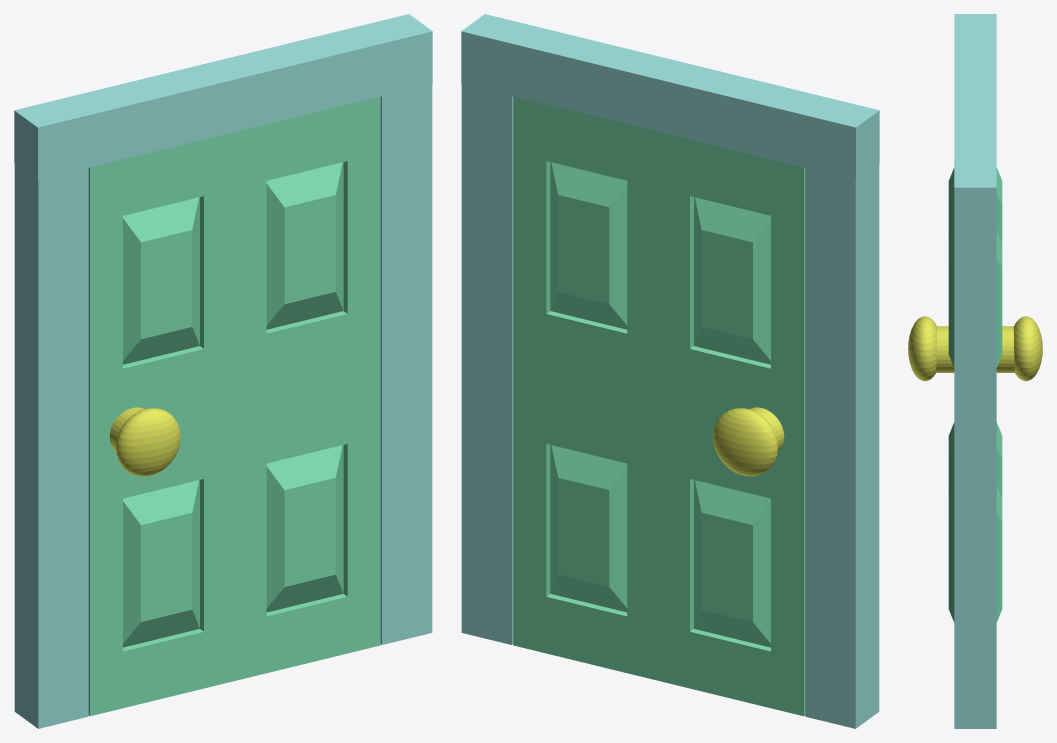
Rendered from door_fixed.fbx.
3 views of the same model, side by side, from view 1: azimuth 30°, elevation 25°; view 2: azimuth 150°, elevation 25°; view 3: azimuth 270°, elevation 25° (orthographic). The views are drawn at different scales.
Visible parts, largest first — view 1: door base; view 2: door base; view 3: door base.
Part boxes in pixels (box(x1,y1,x2,y2)): door base: box(14, 14, 432, 728); door base: box(461, 14, 879, 728); door base: box(908, 14, 1042, 728).
Size of the model in its own units: 857 by 1247 by 281.
